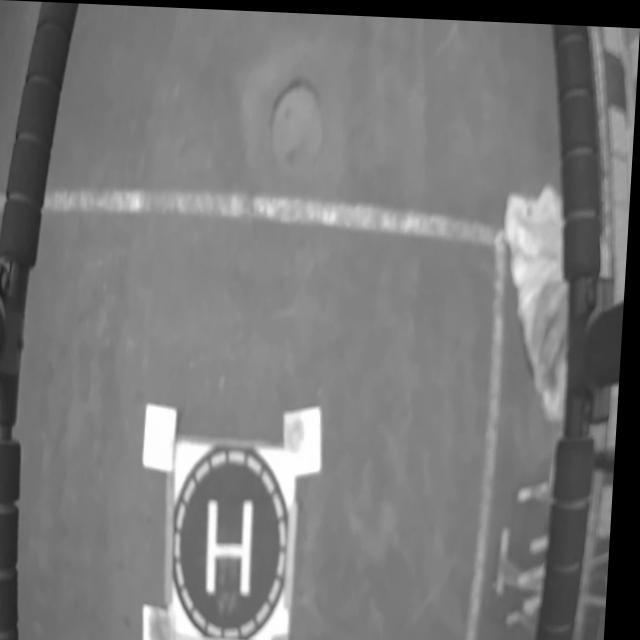Helipad: (212, 495, 260, 595)
